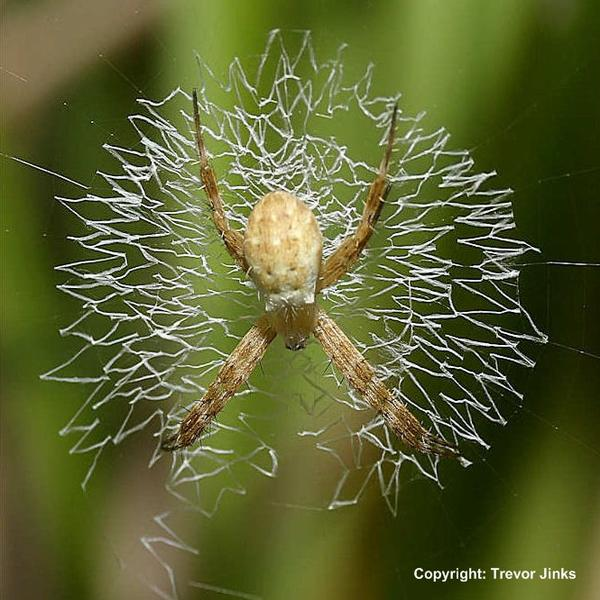St Andrew's Cross Spider: (178, 89, 448, 462)
